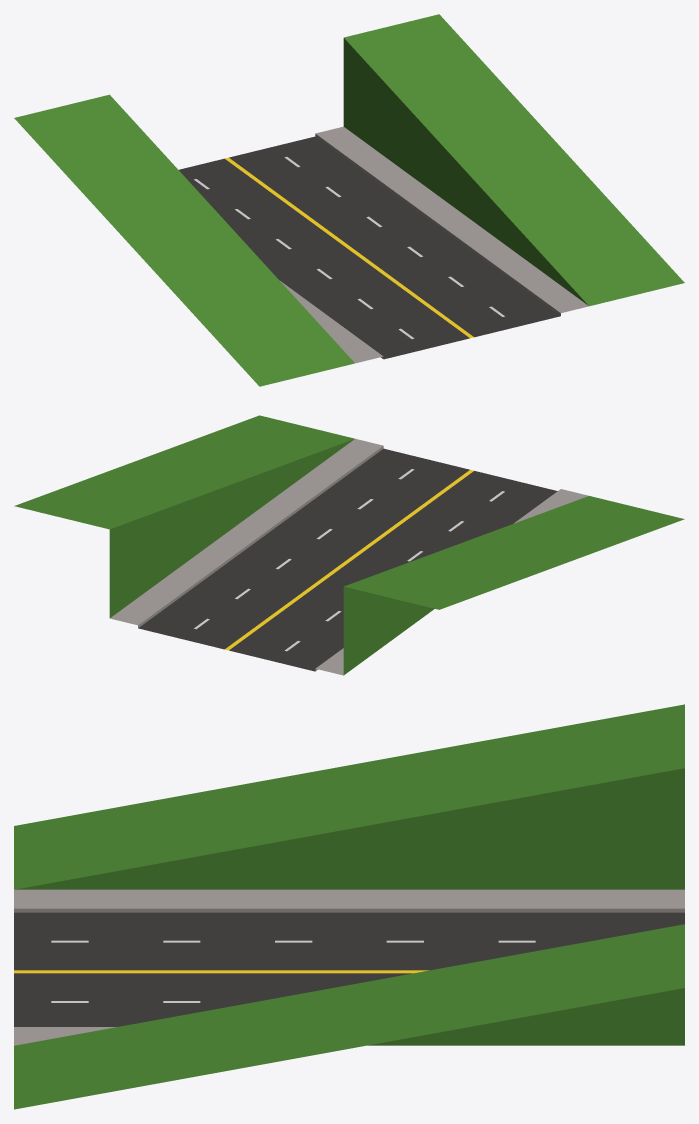
File: tiles-nb_tile-mainroad-tunnel-entrance-nb.fbx
3 renders of one model, top to bottom at view 1: azimuth 30°, elevation 25°; view 2: azimuth 150°, elevation 25°; view 3: azimuth 270°, elevation 25°, orthographic. The views are drawn at different scales.
Visible parts, largest first — view 1: tiles_nb_tile_mainroad_tunnel_entrance_nb; view 2: tiles_nb_tile_mainroad_tunnel_entrance_nb; view 3: tiles_nb_tile_mainroad_tunnel_entrance_nb.
Boxes of the visible parts, x1,y1,x2,y2 form: tiles_nb_tile_mainroad_tunnel_entrance_nb: (14, 14, 684, 386); tiles_nb_tile_mainroad_tunnel_entrance_nb: (14, 415, 684, 675); tiles_nb_tile_mainroad_tunnel_entrance_nb: (14, 704, 684, 1109).
Bounding box in the file's own units: 200 × 41.33 × 200.
